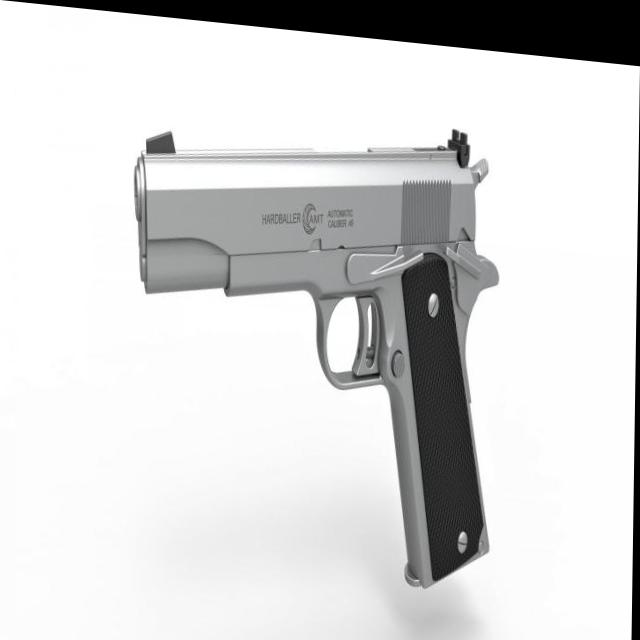handgun: (130, 125, 495, 585)
